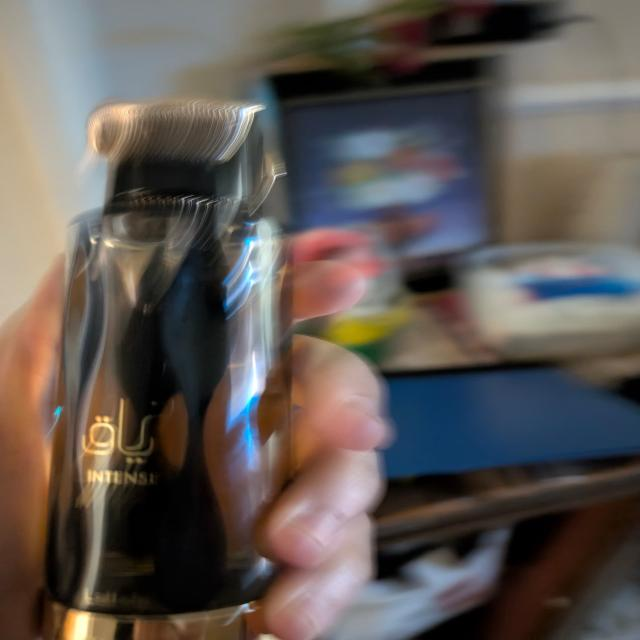Teriaq-Intense: (37, 95, 301, 638)
